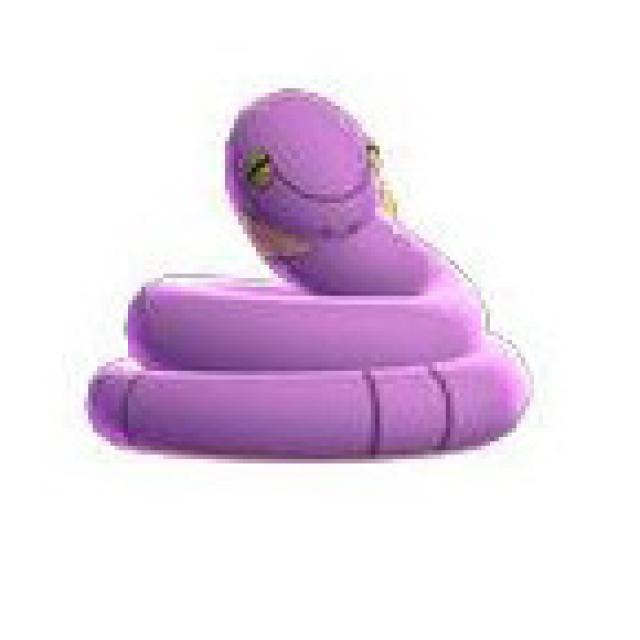Ekans: (86, 86, 530, 454)
